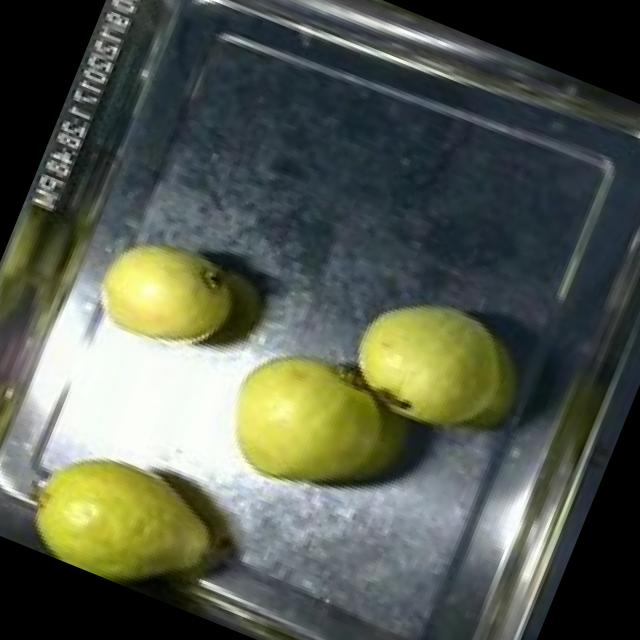Fruit: (199, 321, 438, 531), (1, 418, 242, 614), (324, 266, 544, 462), (67, 218, 260, 382)
